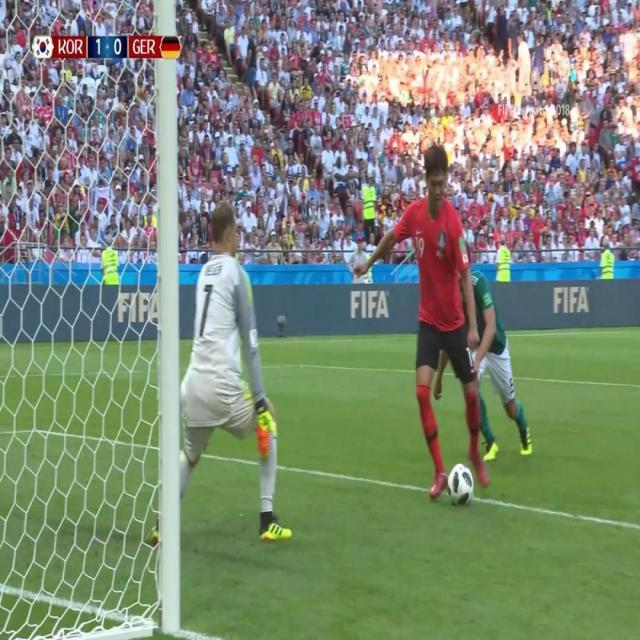ball: (446, 457, 478, 511)
goalkeeper: (154, 193, 295, 582)
player: (361, 129, 505, 507), (461, 250, 532, 466)
